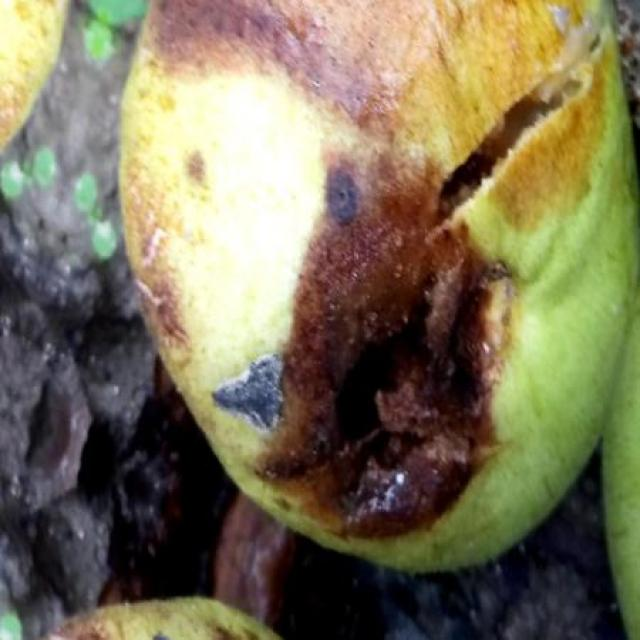Styler and Root: (120, 0, 638, 569)
